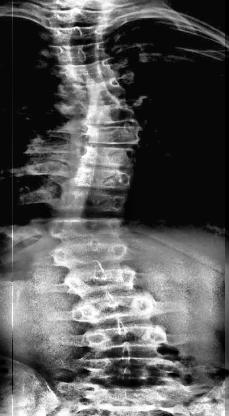Vertebrae: (77, 325, 173, 355), (42, 188, 138, 212), (70, 296, 161, 320), (51, 240, 133, 265), (43, 214, 131, 237), (64, 268, 148, 292), (58, 78, 138, 102), (68, 145, 148, 167), (43, 7, 115, 29), (66, 166, 140, 186), (64, 102, 138, 122), (44, 42, 118, 62), (70, 121, 140, 142), (60, 58, 116, 84), (44, 25, 108, 46)
